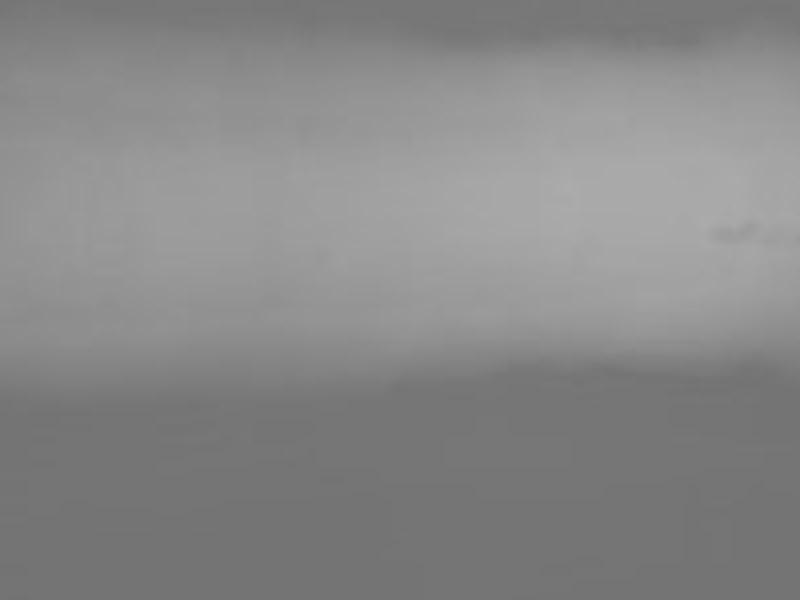defect: (702, 218, 757, 244)
